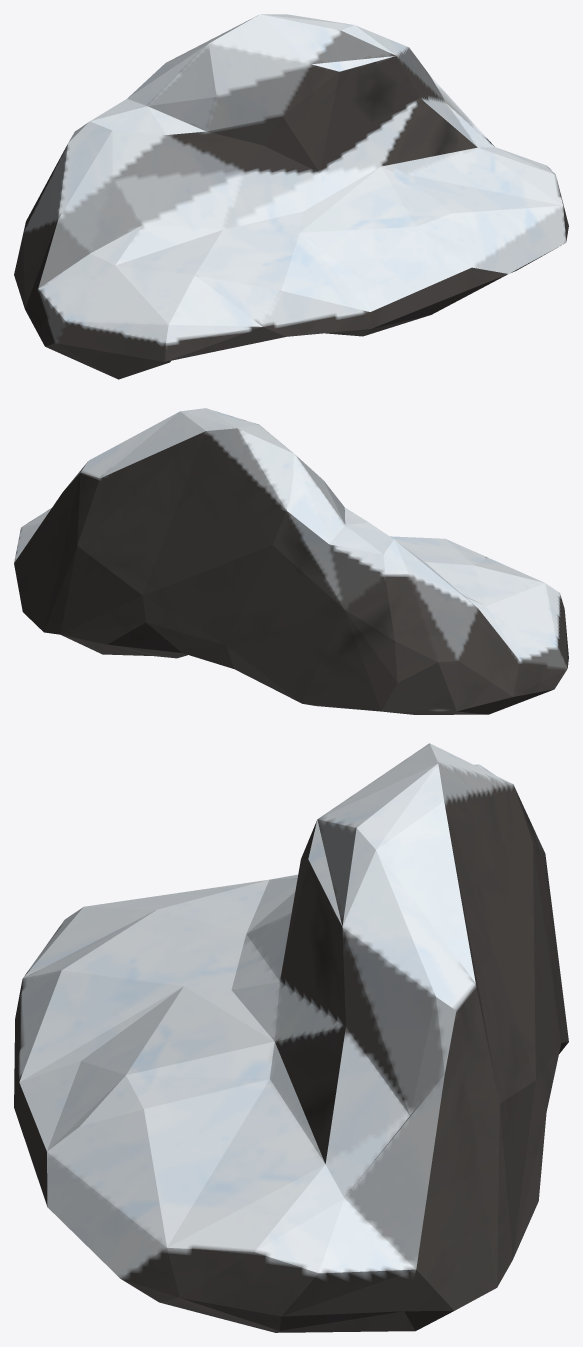
File: mound_01.gltf
The picture shows the model from 3 angles, top to bottom: view 1: azimuth 30°, elevation 25°; view 2: azimuth 150°, elevation 25°; view 3: azimuth 270°, elevation 25°; orthographic projection. The views are drawn at different scales.
Visible parts, largest first — view 1: mound_01; view 2: mound_01; view 3: mound_01.
Part boxes in pixels (x1=…): mound_01: x1=14, y1=14, x2=568, y2=379; mound_01: x1=14, y1=408, x2=568, y2=714; mound_01: x1=14, y1=743, x2=568, y2=1332.
Size of the model in its own units: 1.78 by 0.8463 by 0.998.
1 material, 1 textured.
